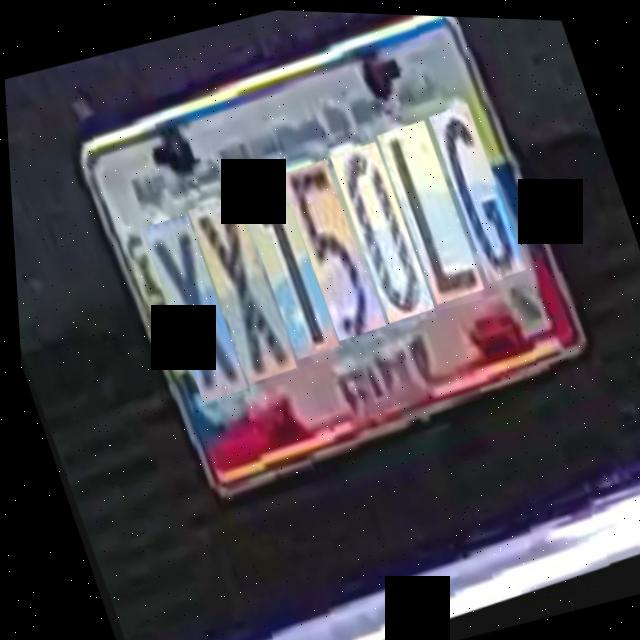0: (328, 142, 433, 327)
1: (235, 178, 339, 364)
5: (278, 159, 385, 345)
G: (428, 106, 526, 288)
L: (375, 121, 483, 309)
X: (183, 194, 294, 387), (136, 213, 245, 405)
